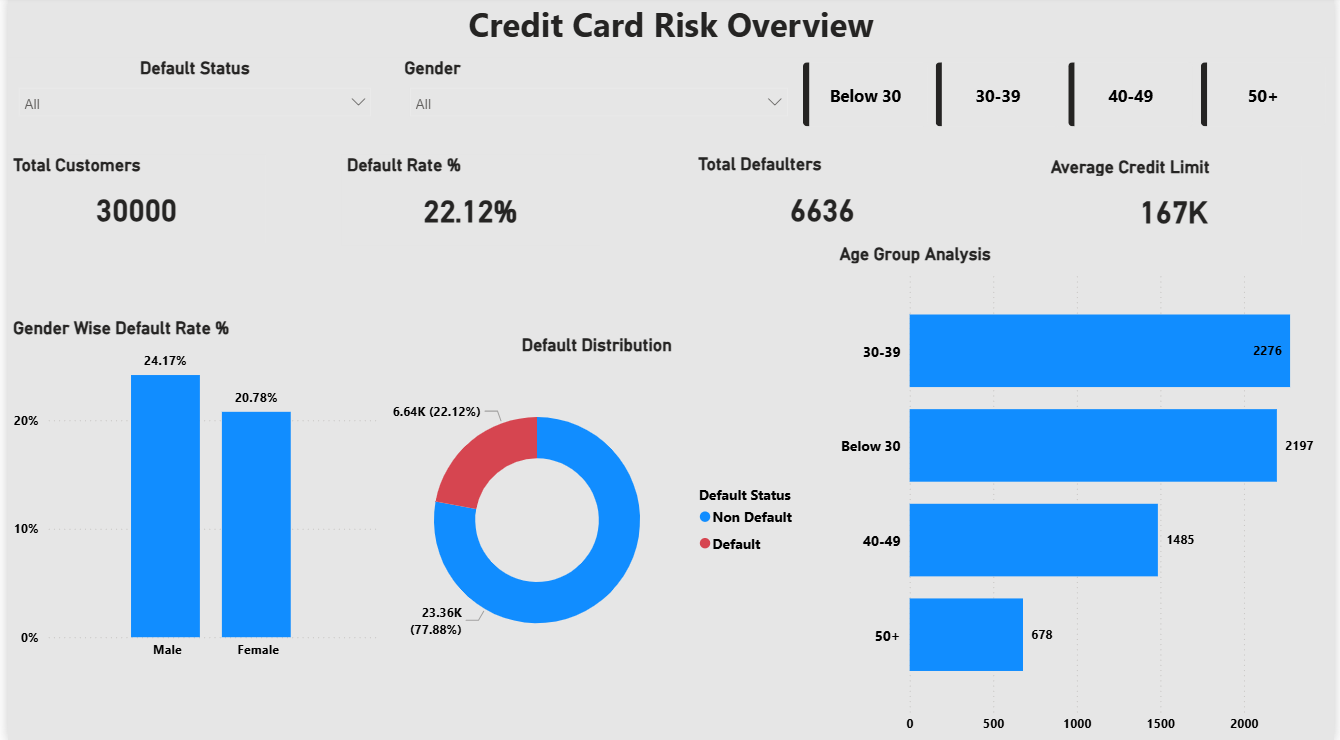

Layout of this report page (visuals, bound fields, positions):
{"tool":"powerbi","page":{"name":"Overview","canvas":[1280,720],"ordinal":0},"visuals":[{"type":"card","title":"Total Customers","fields":{"Values":["CountNonNull(credit_card_risk_analysis credit_card_clean.ID)"]},"box":[0,153.2,248.5,85.7],"z":0},{"type":"card","title":"Total Defaulters","fields":{"Values":["Sum(credit_card_risk_analysis credit_card_clean.default_next_month)"]},"box":[661.1,152,249.7,86.9],"z":1000},{"type":"card","title":"Default Rate %","fields":{"Values":["credit_card_risk_analysis credit_card_clean.Default Rate %"]},"box":[322.1,153.2,248.5,86.9],"z":2000},{"type":"card","title":"Average Credit Limit","fields":{"Values":["Avg(credit_card_risk_analysis credit_card_clean.LIMIT_BAL)"]},"box":[1001.3,154.4,247.3,85.7],"z":3000},{"type":"donutChart","title":"Default Distribution ","fields":{"Category":["credit_card_risk_analysis credit_card_clean.Default Status"],"Y":["CountNonNull(credit_card_risk_analysis credit_card_clean.ID)"]},"box":[349.9,326.9,436.7,339],"z":4000},{"type":"clusteredColumnChart","title":"Gender Wise Default Rate %","fields":{"Category":["credit_card_risk_analysis credit_card_clean.gender"],"Y":["credit_card_risk_analysis credit_card_clean.Default Rate %"]},"box":[0,310.1,360.7,339],"z":5000},{"type":"barChart","title":"Age Group Analysis","fields":{"Category":["credit_card_risk_analysis credit_card_clean.age_group"],"Y":["Sum(credit_card_risk_analysis credit_card_clean.default_next_month)"]},"box":[797.5,238.9,482.6,481.4],"z":6000},{"type":"textbox","box":[0,0,1280.3,59],"z":7000},{"type":"slicer","title":"Gender","fields":{"Values":["credit_card_risk_analysis credit_card_clean.gender"]},"box":[377.6,59.1,384.9,72.4],"z":9000},{"type":"advancedSlicerVisual","fields":{"Values":["credit_card_risk_analysis credit_card_clean.age_group"]},"box":[763,59,517.3,72.7],"z":10000},{"type":"slicer","title":"Default Status","fields":{"Values":["credit_card_risk_analysis credit_card_clean.Default Status"]},"box":[0,59.1,360.7,72.4],"z":10001}]}

Visuals, with their boxes in screenshot pixels (x1, y1, x2, y2), scaled from the page's 1280x720 canvas onto the 1340x740 screenshot:
"Total Customers" card: locate(0, 157, 260, 246)
"Total Defaulters" card: locate(692, 156, 953, 246)
"Default Rate %" card: locate(337, 157, 597, 247)
"Average Credit Limit" card: locate(1048, 159, 1307, 247)
"Default Distribution " donutChart: locate(366, 336, 823, 684)
"Gender Wise Default Rate %" clusteredColumnChart: locate(0, 319, 378, 667)
"Age Group Analysis" barChart: locate(835, 246, 1339, 739)
textbox: locate(0, 0, 1339, 61)
"Gender" slicer: locate(395, 61, 798, 135)
advancedSlicerVisual - credit_card_risk_analysis credit_card_clean.age_group: locate(799, 61, 1339, 135)
"Default Status" slicer: locate(0, 61, 378, 135)
